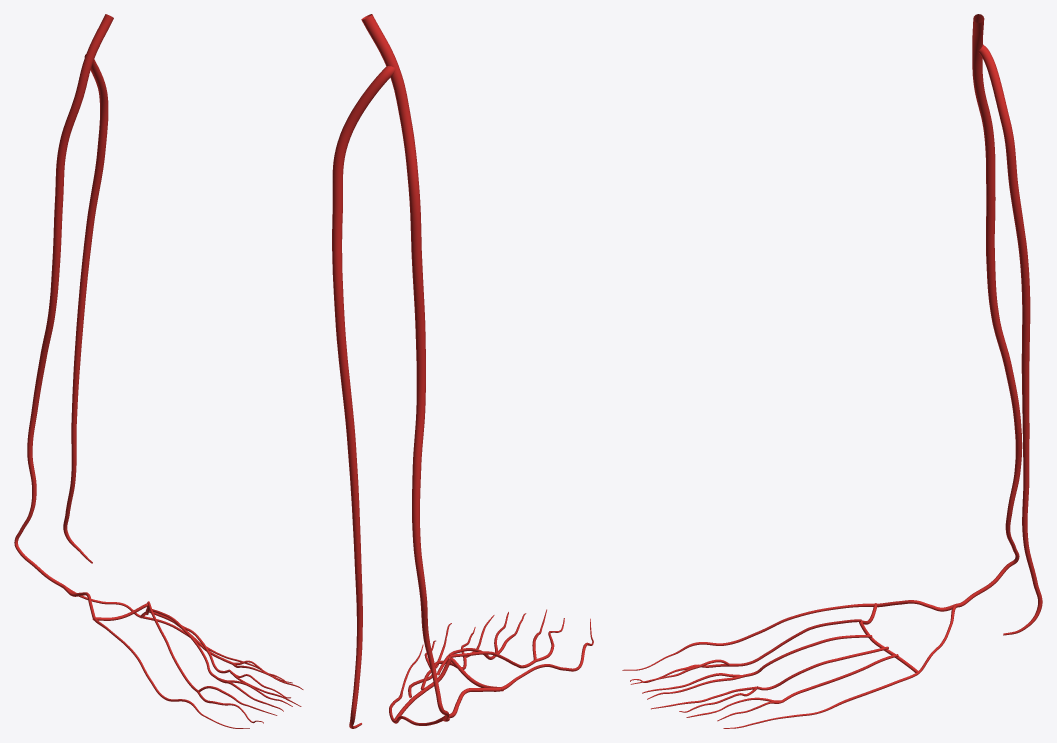
The model's file is circulatorio-posterior-tibial-veins-l.glb.
3 views of the same model, side by side, from view 1: azimuth 30°, elevation 25°; view 2: azimuth 150°, elevation 25°; view 3: azimuth 270°, elevation 25° (orthographic). The views are drawn at different scales.
Parts seen in each view (by area): view 1: Posterior tibial veins.l, Fibular veins.l, Plantar digital veins.l, Plantar metatarsal veins.l; view 2: Posterior tibial veins.l, Fibular veins.l, Plantar digital veins.l, Plantar metatarsal veins.l, Plantar venous arch.l, Medial plantar veins.l; view 3: Posterior tibial veins.l, Fibular veins.l, Plantar digital veins.l, Plantar metatarsal veins.l, Medial plantar veins.l.
Part boxes in pixels (<box>): Posterior tibial veins.l: <box>14,14,113,587</box>; Fibular veins.l: <box>63,54,108,563</box>; Plantar digital veins.l: <box>142,616,303,728</box>; Plantar metatarsal veins.l: <box>147,601,233,692</box>; Posterior tibial veins.l: <box>361,14,449,721</box>; Fibular veins.l: <box>332,66,395,728</box>; Plantar digital veins.l: <box>389,609,593,722</box>; Plantar metatarsal veins.l: <box>408,648,536,697</box>; Plantar venous arch.l: <box>393,657,503,720</box>; Medial plantar veins.l: <box>449,664,564,718</box>; Posterior tibial veins.l: <box>957,14,1022,607</box>; Fibular veins.l: <box>978,44,1042,635</box>; Plantar digital veins.l: <box>622,631,918,728</box>; Plantar metatarsal veins.l: <box>729,619,898,702</box>; Medial plantar veins.l: <box>758,600,957,633</box>.
Size of the model in its own units: 0.0954 by 0.3721 by 0.2093.
